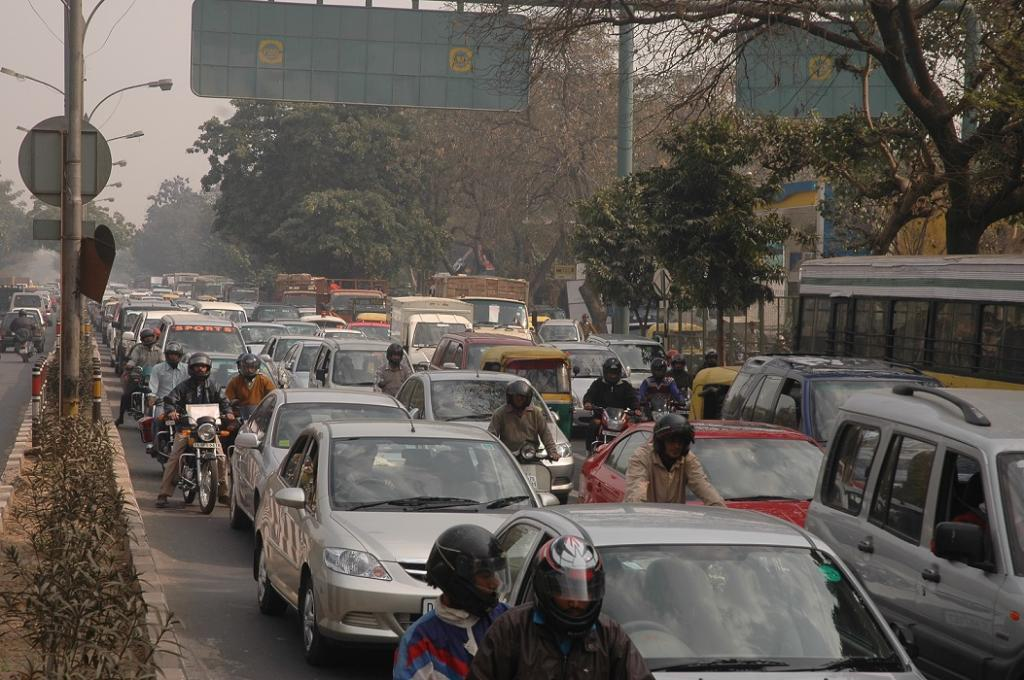car: (442, 485, 938, 680), (251, 414, 588, 664), (775, 371, 1024, 675), (600, 405, 818, 520), (395, 369, 585, 495), (226, 382, 417, 507), (292, 334, 413, 403), (154, 311, 247, 374), (389, 294, 461, 358), (554, 347, 623, 413), (432, 327, 504, 375), (270, 334, 327, 388)
motorbike: (141, 399, 235, 519), (125, 362, 176, 423), (587, 404, 637, 436)
